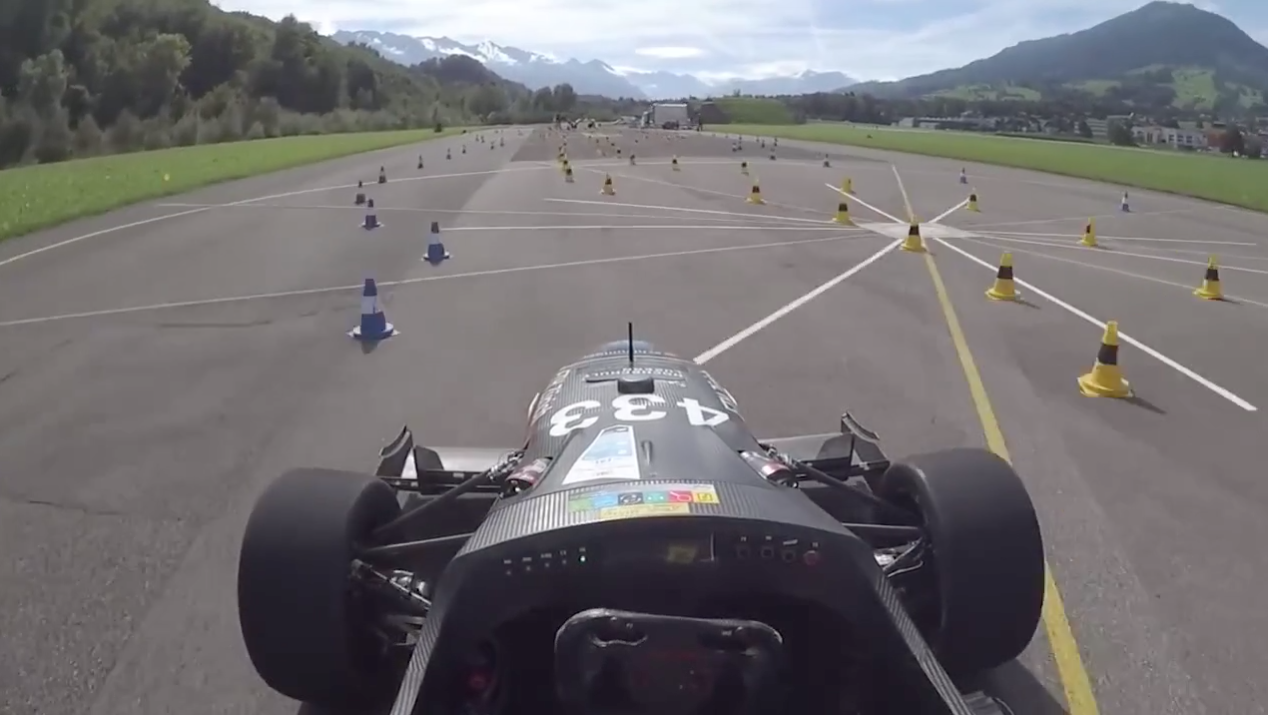lcone: (344, 274, 398, 349), (413, 216, 452, 264), (359, 196, 385, 230)
rcone: (1073, 317, 1137, 403), (982, 246, 1032, 305), (1193, 256, 1229, 307), (898, 214, 932, 257), (1075, 215, 1102, 250), (830, 194, 857, 228)
